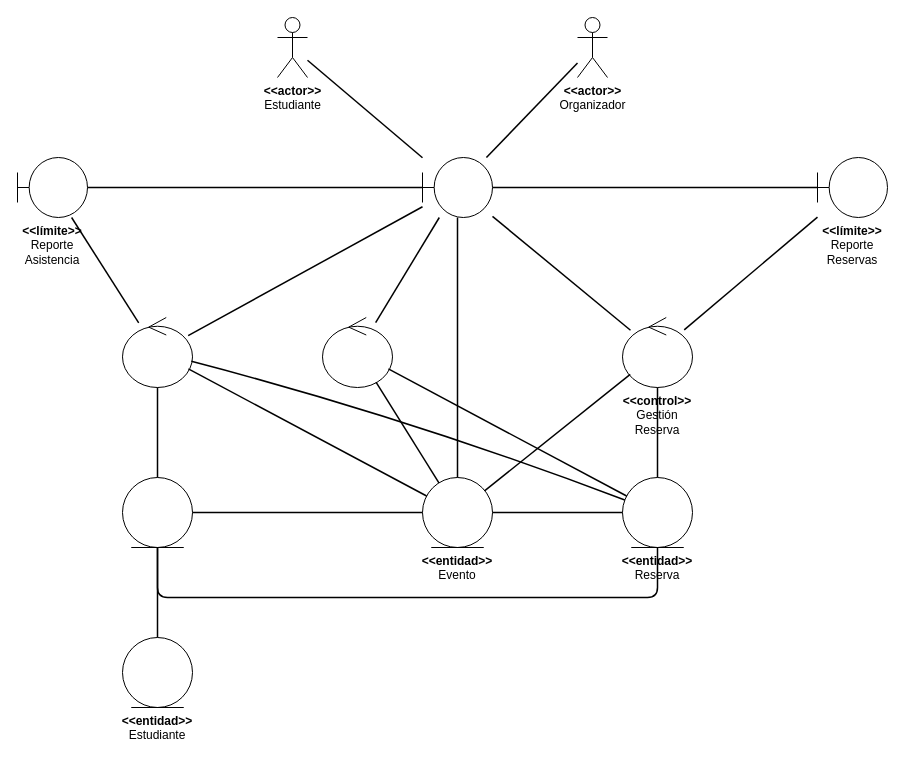
The diagram is 905 pixels wide and 761 high, and some of its shapes have lost their labels. Each missing label, with the centre of its shape:
<<control>> Calcular Disponibilidad: [357,352]
<<control>> Gestión Asistencia: [157,352]
<<entidad>> Asistencia: [157,512]
<<límite>> Pantalla Eventos: [457,187]
